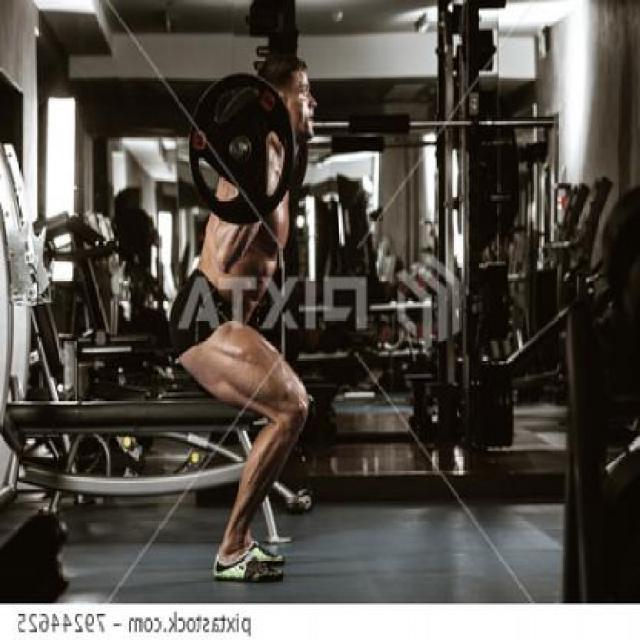Barbell: (226, 130, 249, 163)
